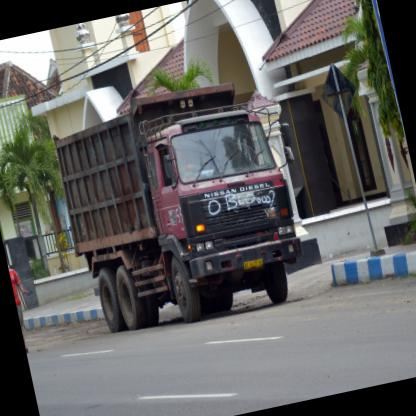truck: (135, 100, 315, 329)
